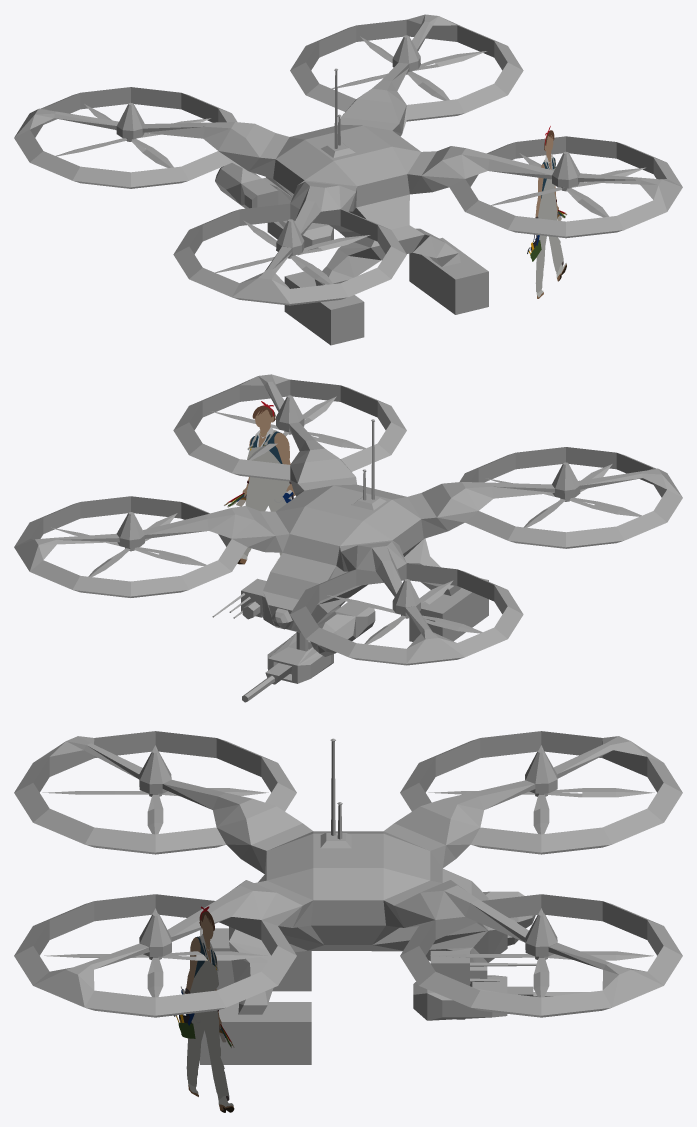
File: sad_drone_2.dae
3 renders of one model, top to bottom at view 1: azimuth 30°, elevation 25°; view 2: azimuth 150°, elevation 25°; view 3: azimuth 270°, elevation 25°, orthographic. The views are drawn at different scales.
Parts seen in each view (by area): view 1: skp8BA1 (×5), Lisanne; view 2: skp8BA1 (×7), Lisanne; view 3: skp8BA1 (×7), Lisanne.
Boxes of the visible parts, box(x1,y1,x2,y2) form: skp8BA1 (×5): box(14, 14, 682, 345); Lisanne: box(535, 168, 563, 292); skp8BA1 (×7): box(14, 374, 682, 683); Lisanne: box(243, 446, 289, 556); skp8BA1 (×7): box(14, 731, 682, 1064); Lisanne: box(186, 960, 229, 1099).
Bounding box in the file's own units: 205 × 205 × 90.85.
